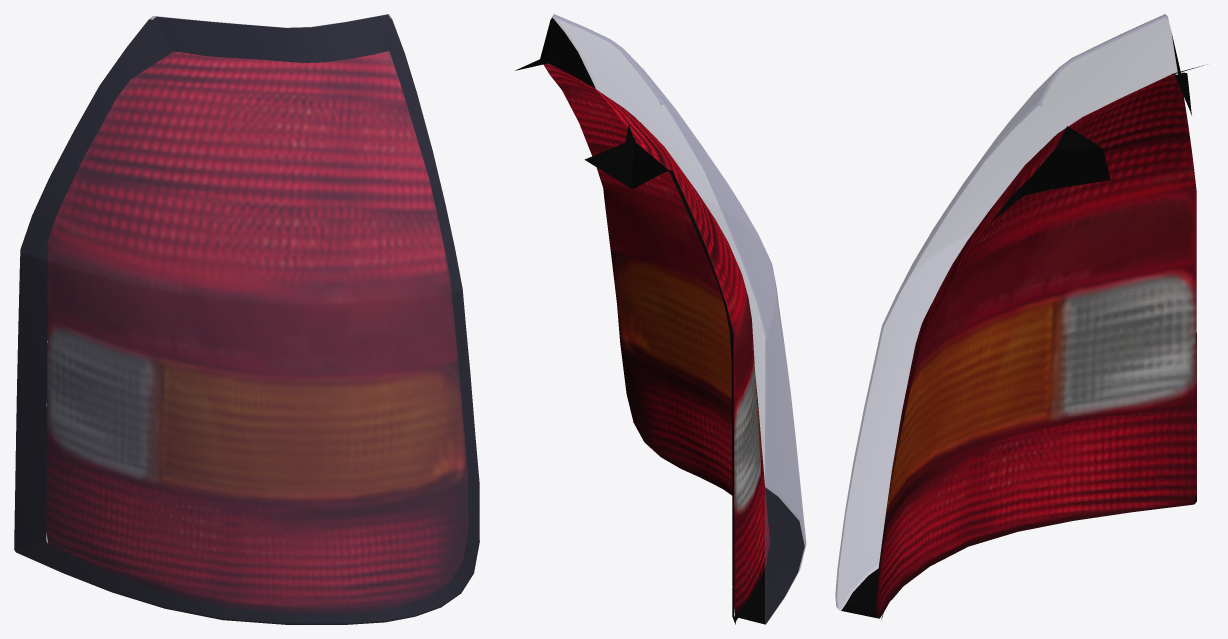
3 renders of one model, left to right at view 1: azimuth 30°, elevation 25°; view 2: azimuth 150°, elevation 25°; view 3: azimuth 270°, elevation 25°, orthographic. The views are drawn at different scales.
Parts seen in each view (by area): view 1: H025_10_541C_R_1_DTaSI_H025_10_541C_R, H025_10_541C_R_H025_10_541C_R_2_N, H025_10_541C_R_H025_10_541C_R_4_N; view 2: H025_10_541C_R_H025_10_541C_R_2_N, H025_10_541C_R_1_DTaSI_H025_10_541C_R, H025_10_541C_R_H025_10_541C_R_4_N, H025_10_541C_R_H025_10_541C_R_3_D; view 3: H025_10_541C_R_H025_10_541C_R_2_N, H025_10_541C_R_1_DTaSI_H025_10_541C_R, H025_10_541C_R_H025_10_541C_R_3_D, H025_10_541C_R_H025_10_541C_R_4_N.
Boxes of the visible parts, left/top/right/bottom form: H025_10_541C_R_1_DTaSI_H025_10_541C_R: left=14, top=14, right=479, bottom=624; H025_10_541C_R_H025_10_541C_R_2_N: left=46, top=51, right=468, bottom=613; H025_10_541C_R_H025_10_541C_R_4_N: left=14, top=14, right=479, bottom=624; H025_10_541C_R_H025_10_541C_R_2_N: left=543, top=63, right=770, bottom=616; H025_10_541C_R_1_DTaSI_H025_10_541C_R: left=551, top=14, right=806, bottom=623; H025_10_541C_R_H025_10_541C_R_4_N: left=540, top=18, right=804, bottom=624; H025_10_541C_R_H025_10_541C_R_3_D: left=514, top=59, right=737, bottom=624; H025_10_541C_R_H025_10_541C_R_2_N: left=875, top=74, right=1196, bottom=618; H025_10_541C_R_1_DTaSI_H025_10_541C_R: left=835, top=14, right=1177, bottom=610; H025_10_541C_R_H025_10_541C_R_3_D: left=881, top=65, right=1203, bottom=618; H025_10_541C_R_H025_10_541C_R_4_N: left=841, top=33, right=1196, bottom=618.
Bounding box in the file's own units: 20.7 × 33.22 × 20.74.
